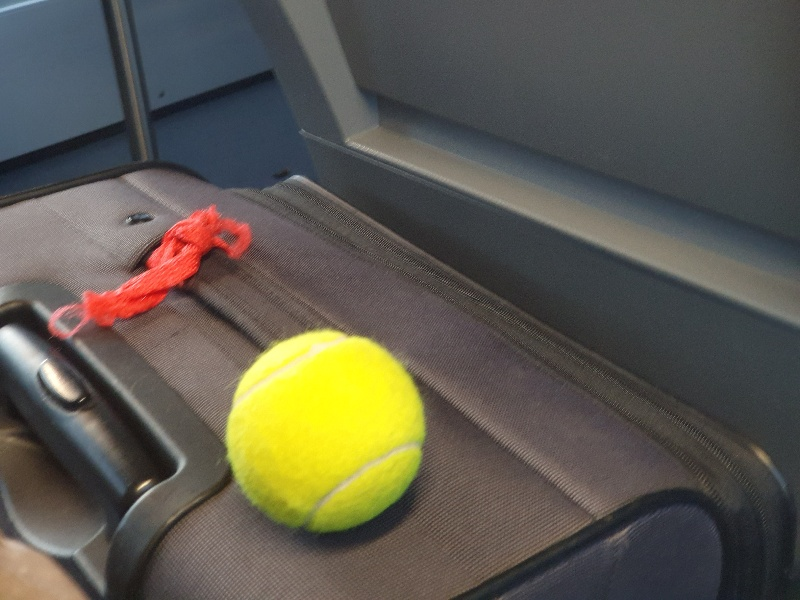Tennisball: (207, 317, 442, 554)
